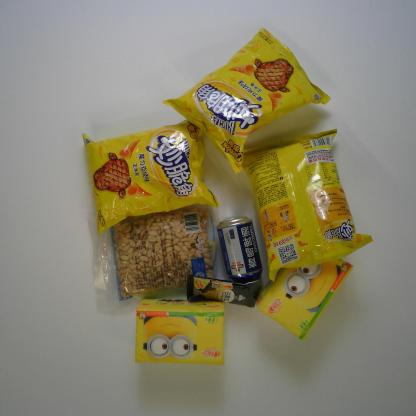Alcohol: (216, 214, 264, 284)
Dried Fruit: (97, 203, 226, 305)
Instant Drink: (186, 273, 263, 308)
Puffed Food: (160, 26, 333, 175), (240, 127, 376, 284), (80, 119, 222, 238)
Tissue: (254, 257, 355, 342), (134, 298, 226, 366)
